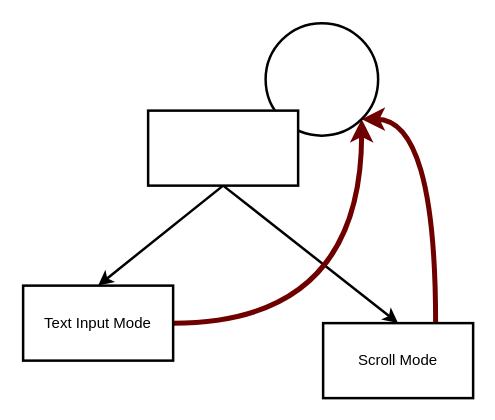
The diagram is 495 pixels wide and 420 high, and some of its shapes have lost their labels. Each missing label, with the centre of its shape:
"Current Value" belongs at (321,78).
"Number Input" belongs at (222,147).
